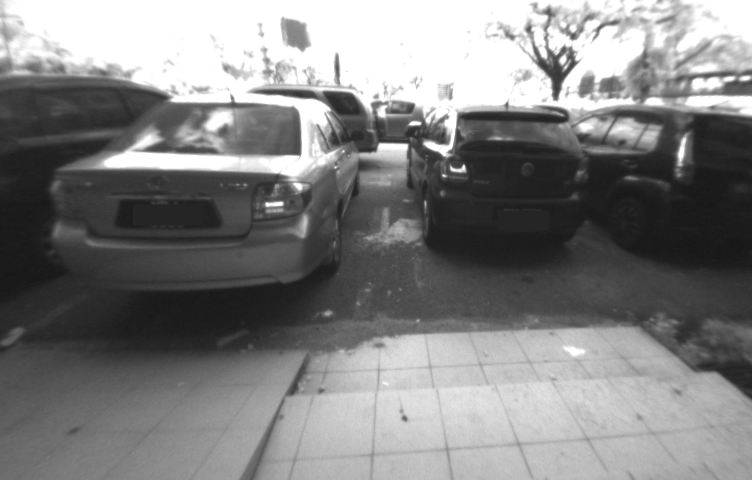down_steps: (285, 321, 748, 480)
mixed_gradient: (184, 340, 347, 480)
